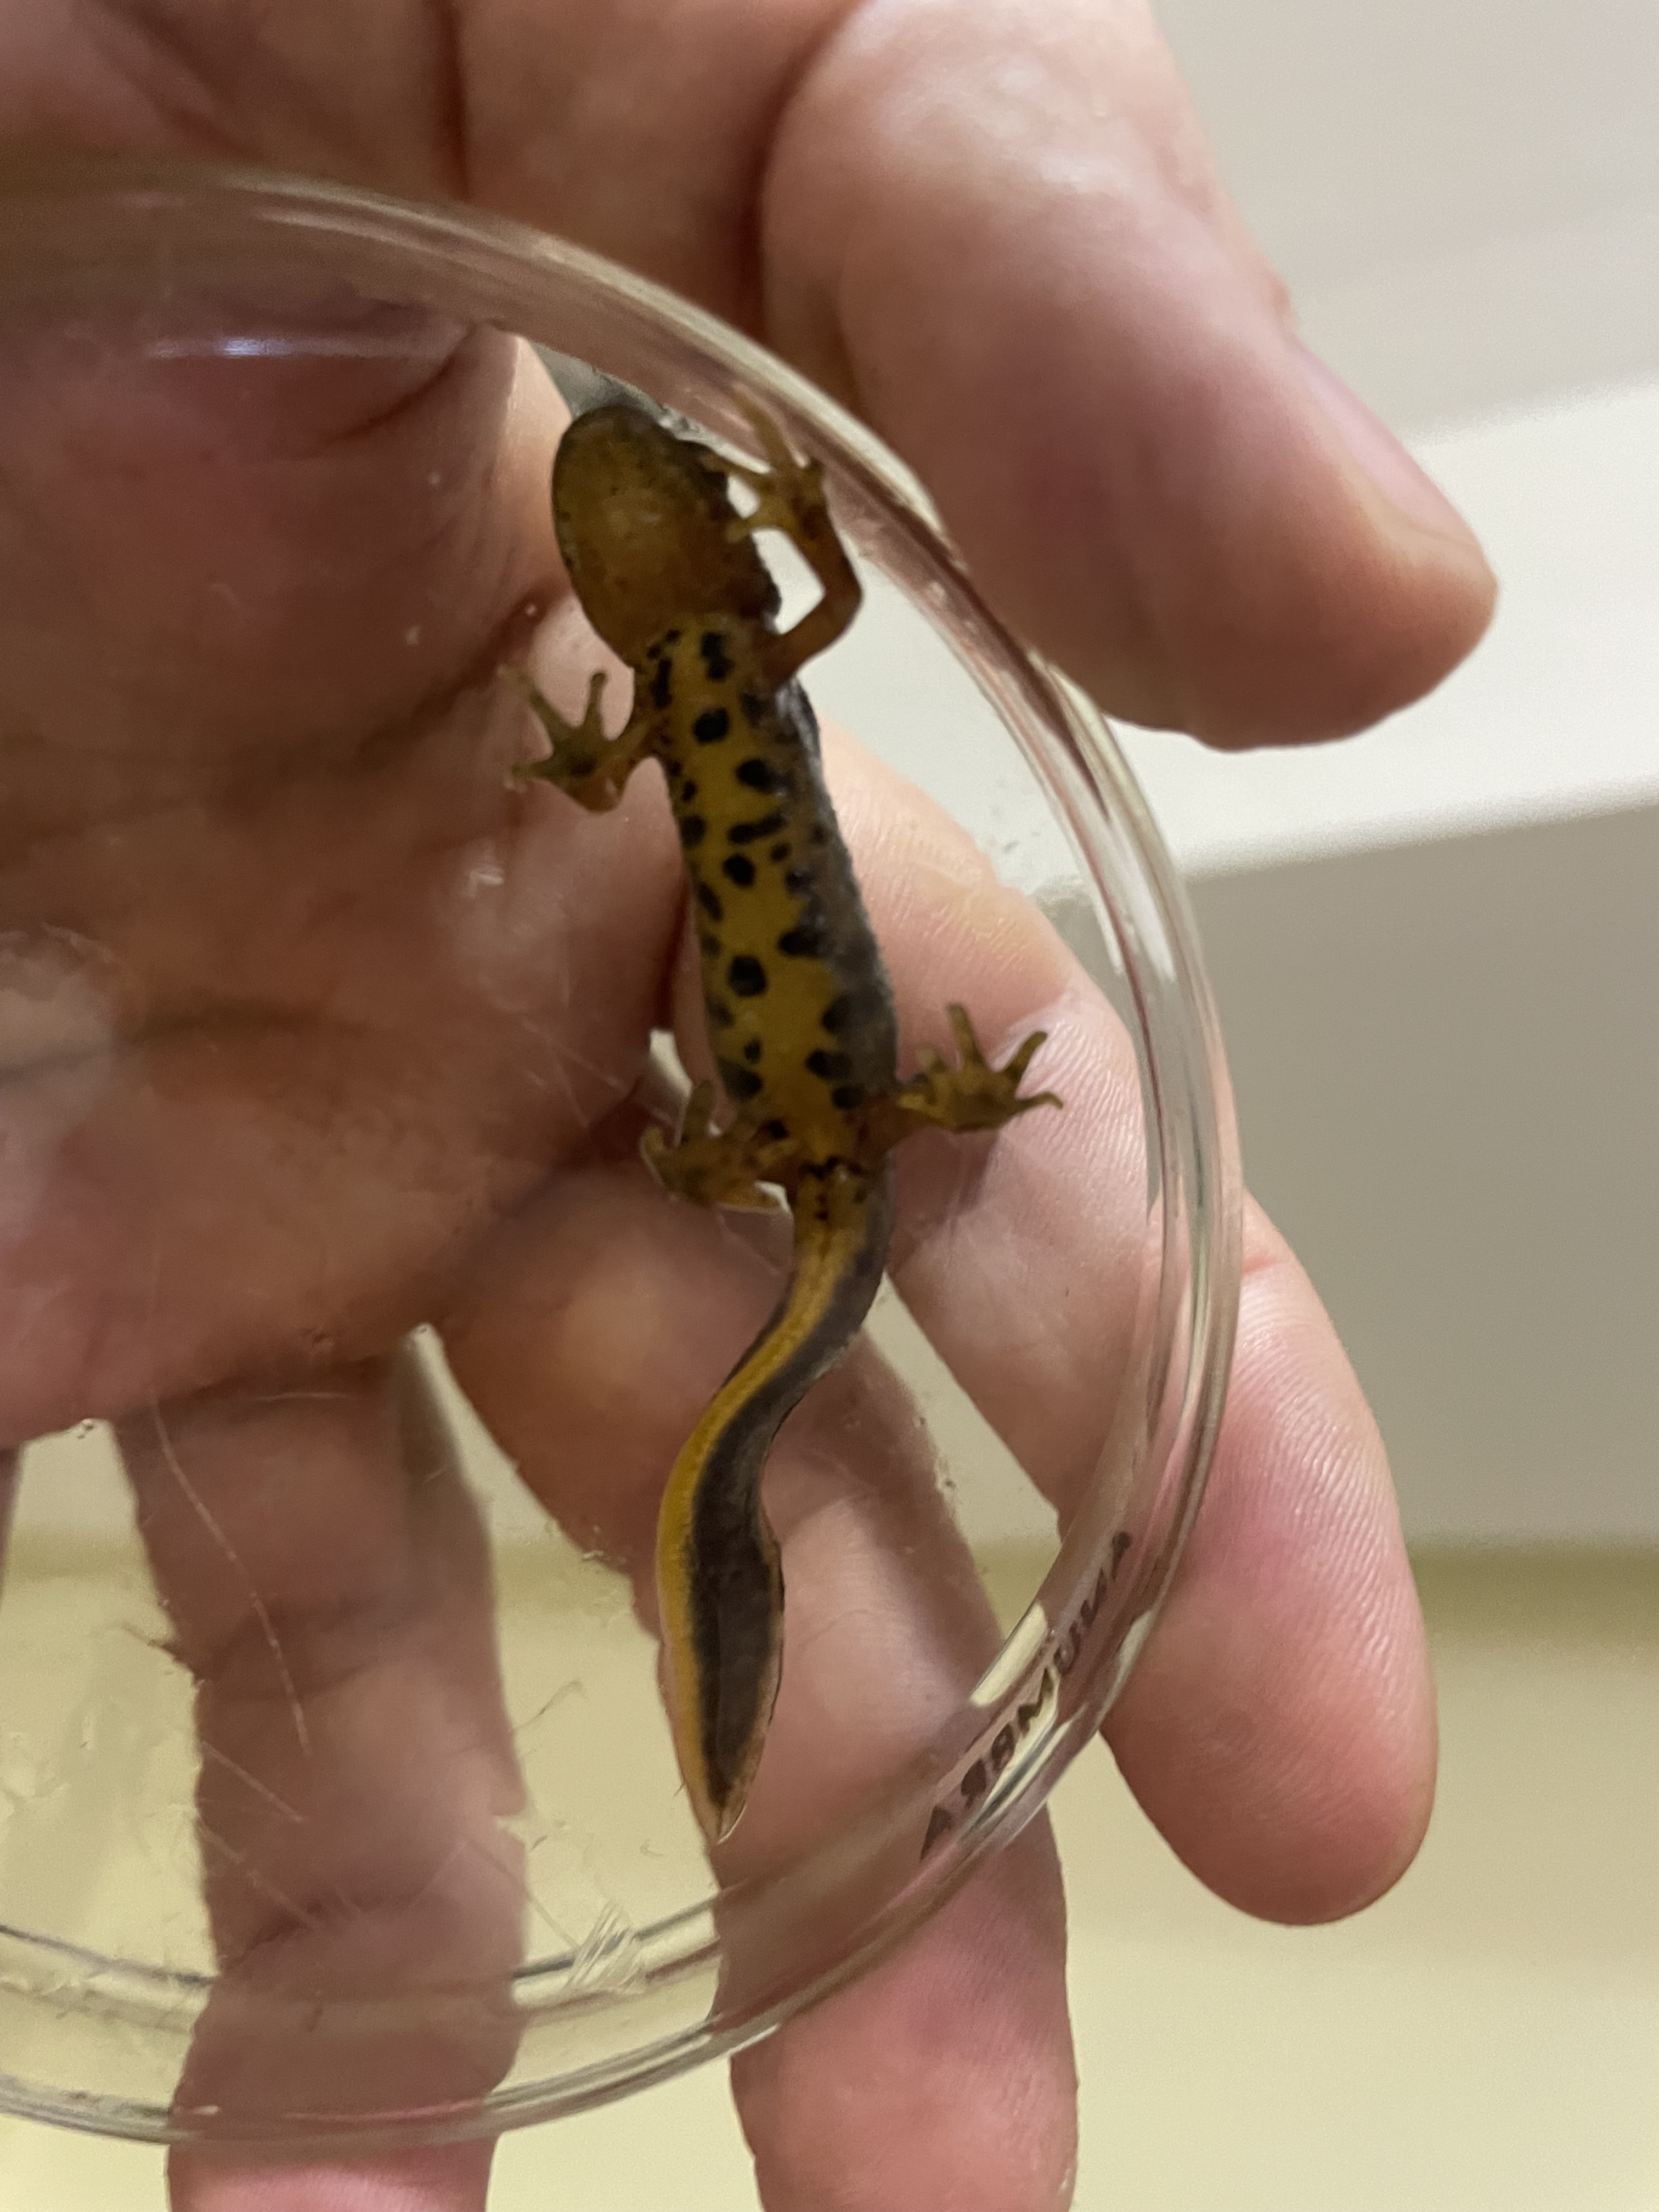Karelin_newt: (657, 671, 897, 1120)
